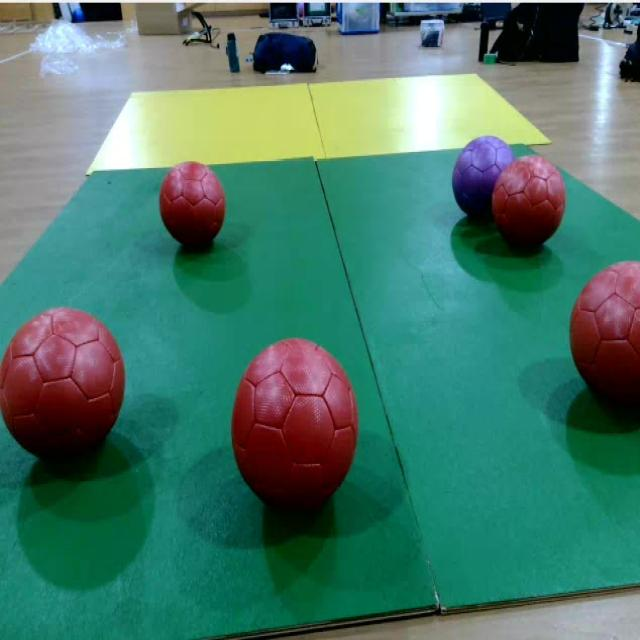purple_ball: (453, 133, 518, 224)
red_ball: (228, 334, 366, 512), (0, 310, 126, 464), (568, 253, 640, 409), (491, 155, 571, 248), (158, 160, 230, 247)
